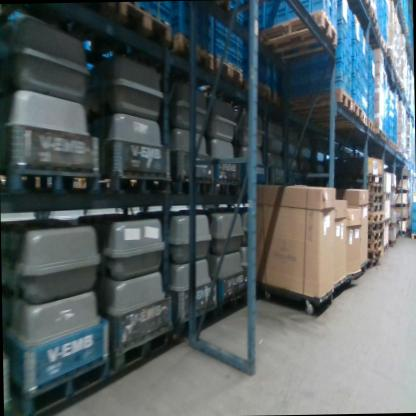pallet: (11, 357, 112, 416), (257, 7, 339, 48), (112, 325, 174, 371), (1, 171, 100, 198), (117, 1, 171, 44), (283, 88, 353, 120), (169, 31, 213, 70), (101, 172, 170, 196), (175, 305, 218, 337), (213, 54, 243, 87), (244, 78, 276, 104), (332, 171, 384, 185), (171, 177, 211, 195), (212, 178, 246, 196), (352, 97, 363, 119), (358, 8, 378, 20), (371, 36, 387, 49), (366, 203, 384, 214), (366, 220, 384, 231), (367, 230, 385, 241), (361, 184, 384, 192), (368, 192, 383, 204), (368, 211, 384, 222), (361, 31, 380, 40), (373, 128, 386, 141), (367, 248, 383, 258), (367, 240, 384, 249), (362, 111, 369, 130), (394, 202, 409, 208), (368, 118, 374, 132), (388, 237, 396, 246), (397, 187, 407, 194), (384, 192, 391, 201), (382, 243, 388, 253), (384, 217, 390, 227), (388, 222, 396, 229), (388, 140, 393, 150), (396, 175, 408, 179), (398, 217, 409, 221), (399, 229, 405, 236), (392, 143, 397, 151), (411, 234, 416, 240), (391, 186, 395, 193)
small_load_carrier: (265, 1, 292, 33), (323, 68, 352, 96), (323, 47, 350, 76), (244, 2, 266, 37), (332, 31, 351, 55), (338, 0, 353, 27), (312, 0, 331, 20), (290, 0, 314, 15), (350, 61, 363, 86), (351, 75, 363, 102), (351, 43, 363, 69), (410, 221, 416, 233), (410, 209, 416, 218)
